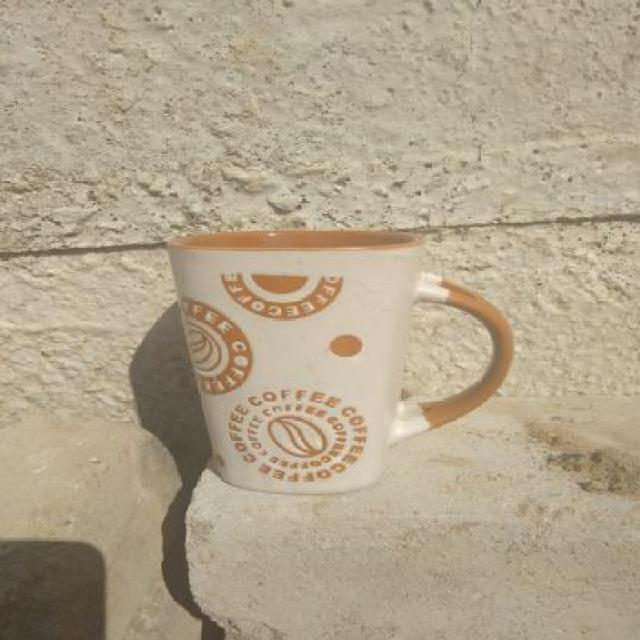cup: (148, 220, 526, 506)
